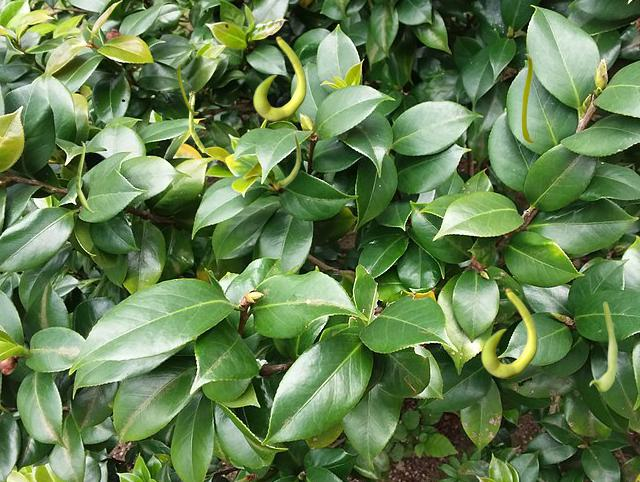french_bean: (481, 288, 536, 377), (253, 36, 305, 120), (589, 301, 616, 390), (76, 141, 96, 211), (277, 131, 300, 186), (521, 53, 535, 142), (188, 91, 206, 151), (177, 63, 196, 114)
